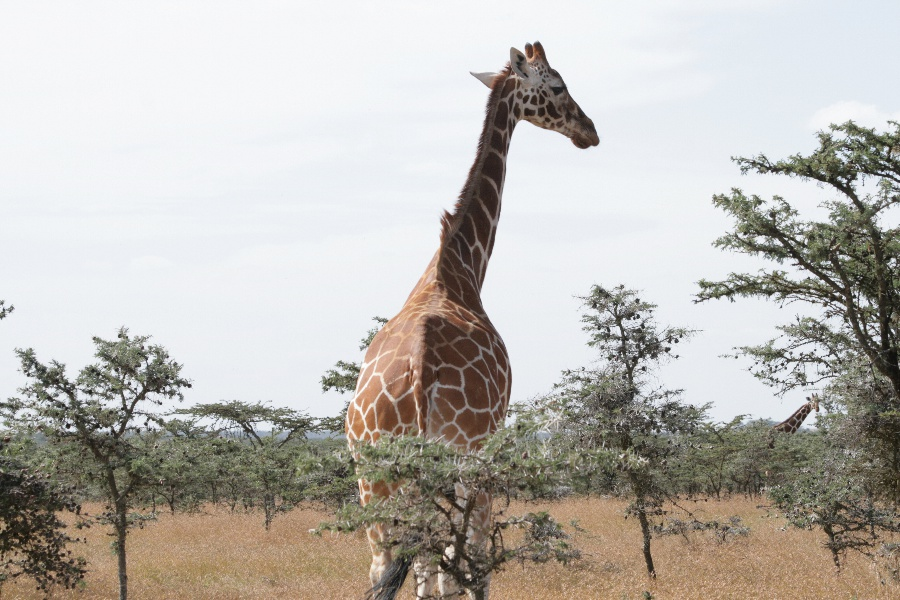giraffe: (338, 29, 605, 591)
